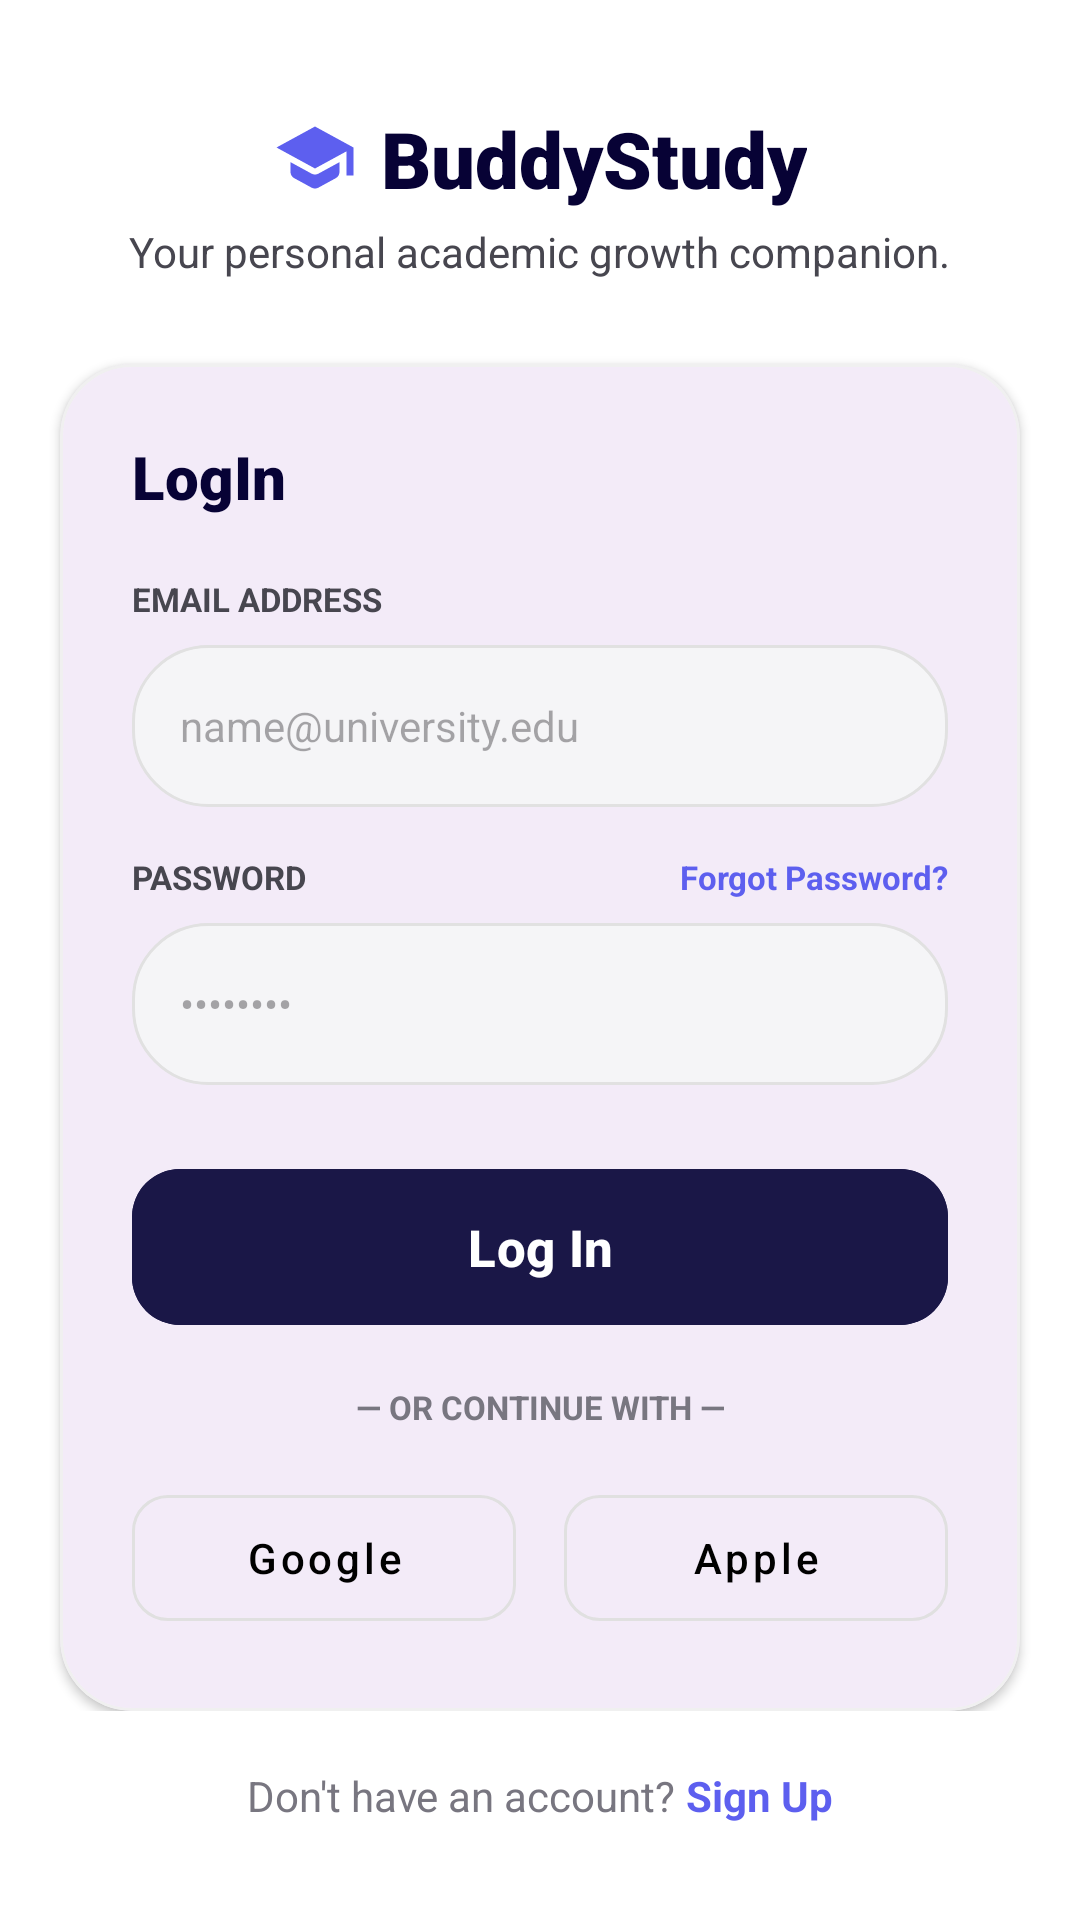

Point at icon controls on the screen. Image size 1080 × 1920, points as [x,y].
grad cap: [315,157]
